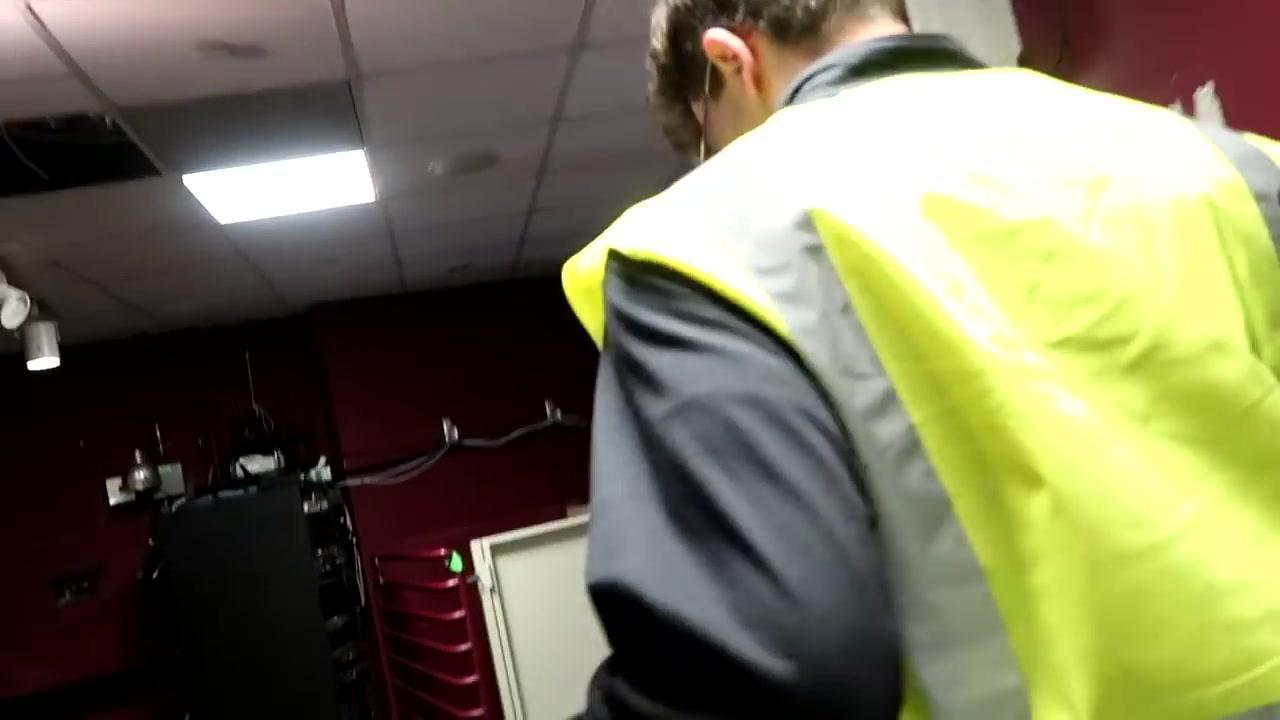vest: (559, 61, 1279, 719)
